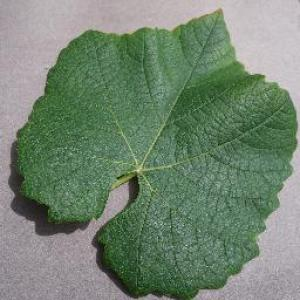Folha: (14, 7, 298, 299)
